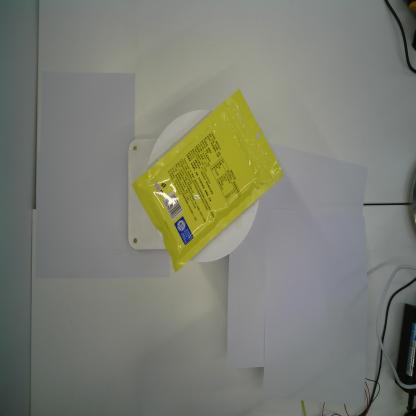Dried Fruit: (130, 88, 284, 274)
